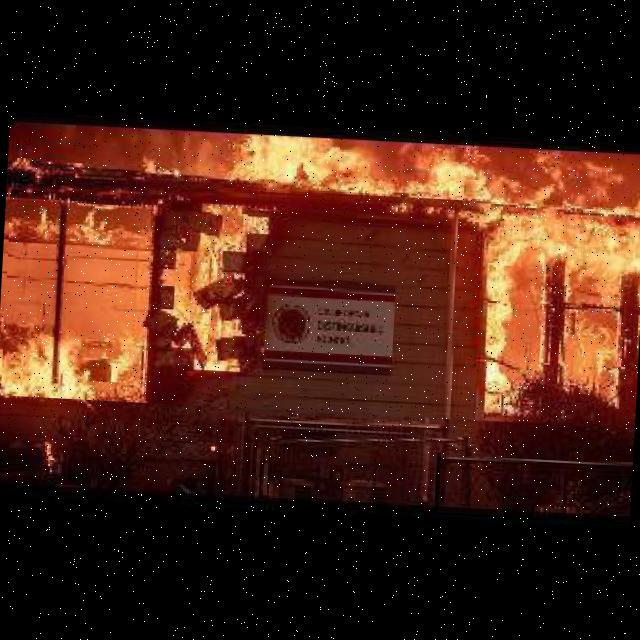fire: (0, 117, 640, 428)
